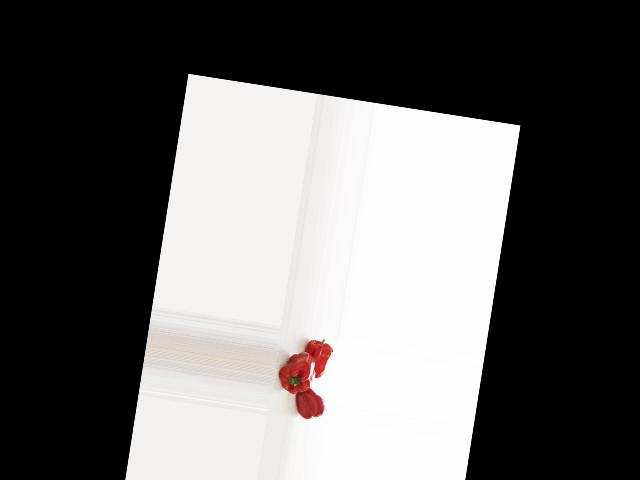bell_pepper: (291, 388, 327, 423)
